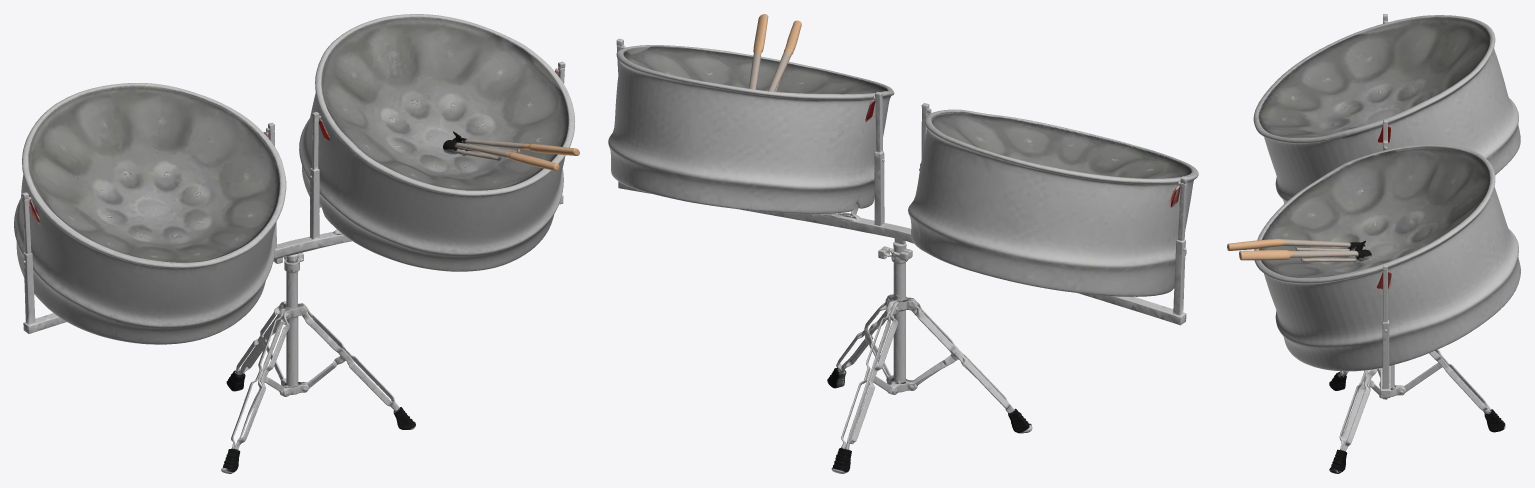
File: double_seconds-optimized.glb
3 views of the same model, side by side, from view 1: azimuth 30°, elevation 25°; view 2: azimuth 150°, elevation 25°; view 3: azimuth 270°, elevation 25° (orthographic). The views are drawn at different scales.
Visible parts, largest first — view 1: mesh_node; view 2: mesh_node; view 3: mesh_node.
Boxes of the visible parts, box(x1,y1,x2,y2) form: mesh_node: box(14, 14, 579, 473); mesh_node: box(608, 14, 1198, 473); mesh_node: box(1227, 14, 1520, 473).
Size of the model in its own units: 1.9 by 1.13 by 0.9344.
1 material, 1 textured.
